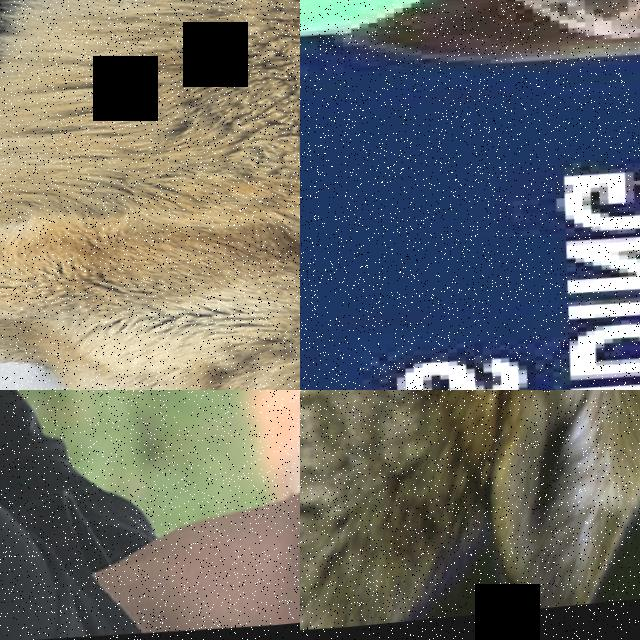dog: (300, 0, 640, 169)
wolf: (0, 0, 300, 390), (300, 390, 640, 640), (0, 390, 300, 529)
